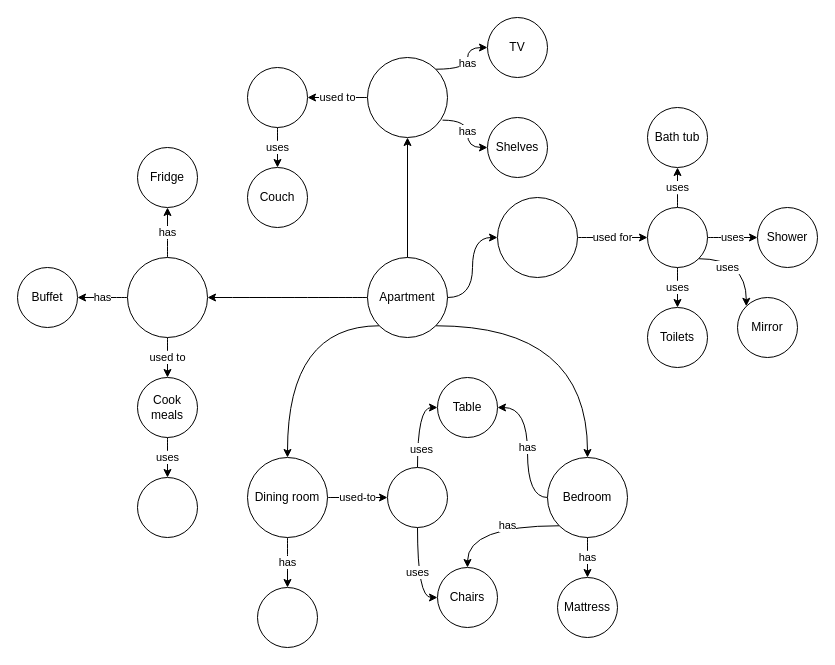
This 835x665 diagram has some shape labels left out. Here are the shapes that lost their labels. From the top down, the centre of each, then its label:
the point at 277,97: Meet and chat
the point at 407,97: Living room
the point at 537,237: Bathroom
the point at 677,237: Take baths and others
the point at 167,297: Kitchen
the point at 167,507: Oven
the point at 417,497: Take meals
the point at 287,617: Cabinet
